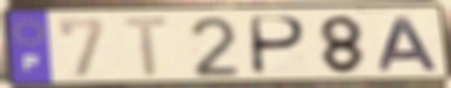2: (187, 15, 243, 79)
7: (54, 16, 113, 82)
8: (316, 14, 368, 77)
A: (376, 15, 442, 73)
P: (250, 14, 310, 78)
T: (119, 15, 177, 81)
